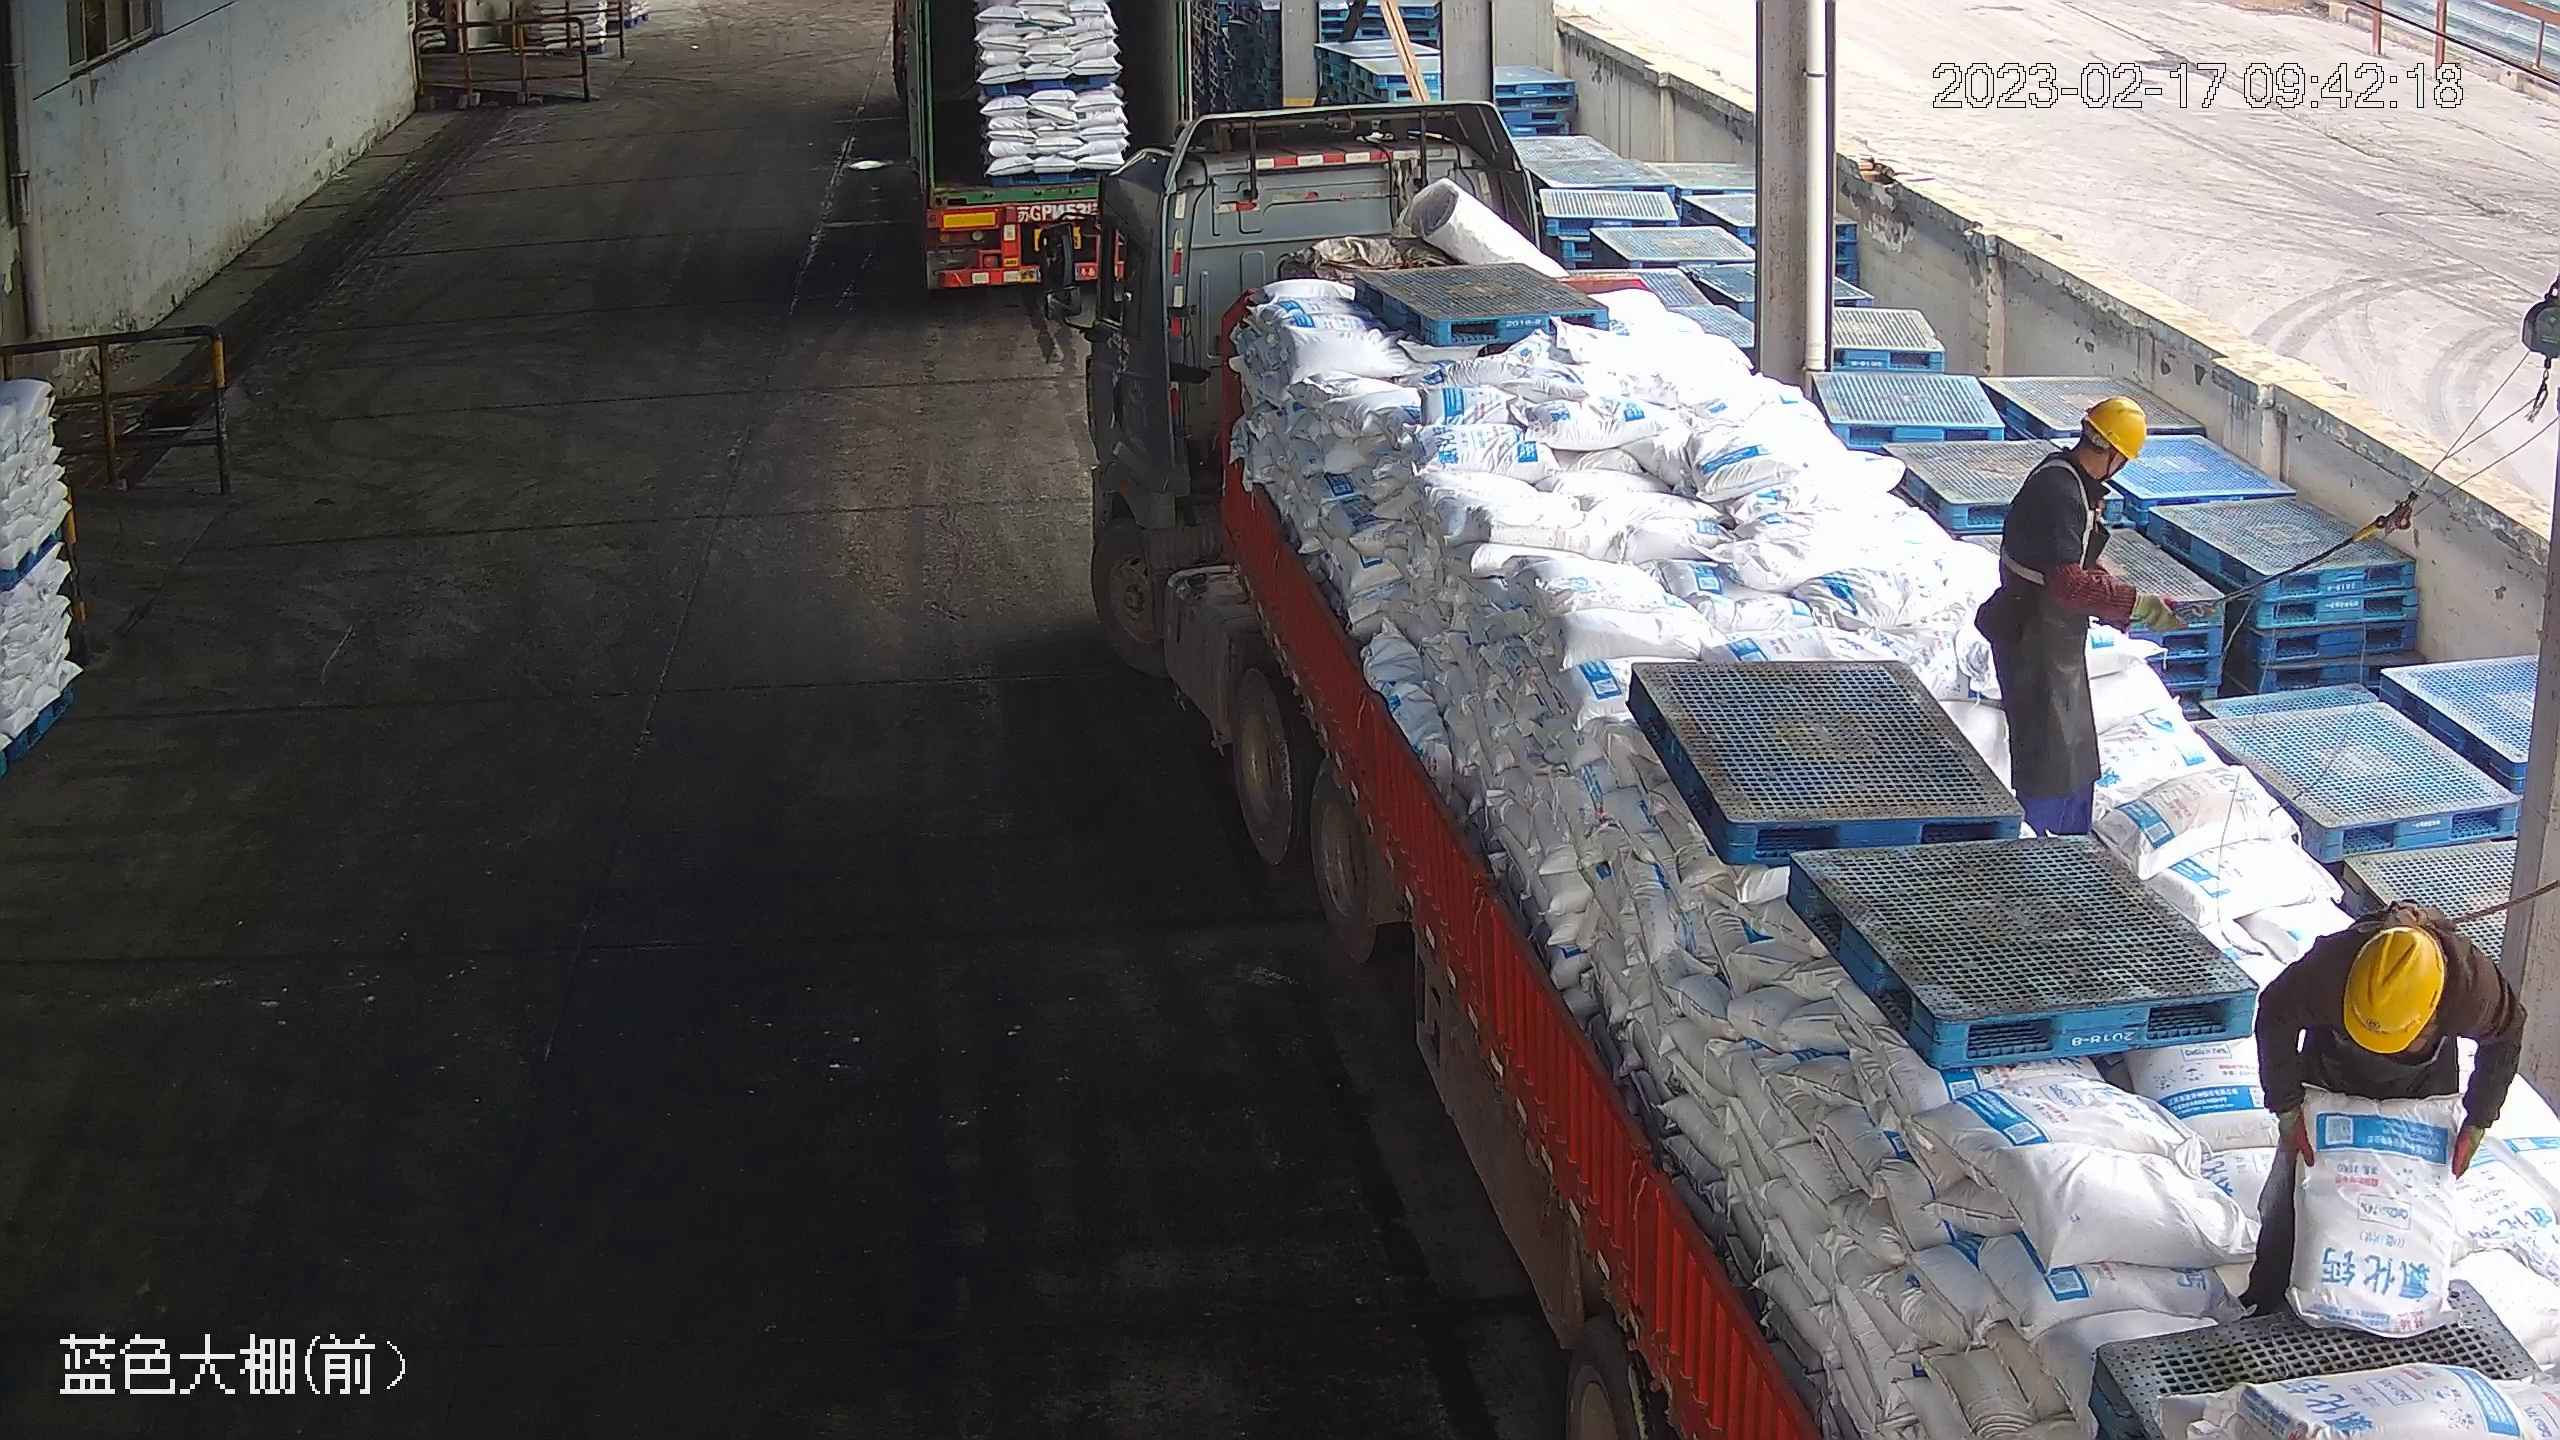belt: (1999, 458, 2108, 588)
head: (2307, 909, 2502, 1052), (2020, 393, 2149, 525)
helmet: (2345, 924, 2443, 1051), (2080, 394, 2148, 464)
people: (2238, 903, 2521, 1318), (1971, 391, 2172, 840)
truck: (1043, 99, 2551, 1439), (888, 1, 1182, 298)
